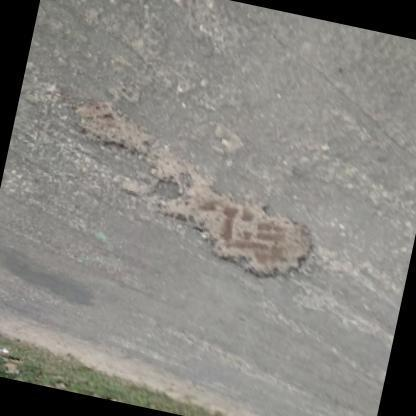pothole: (158, 189, 320, 282), (76, 98, 213, 193)
